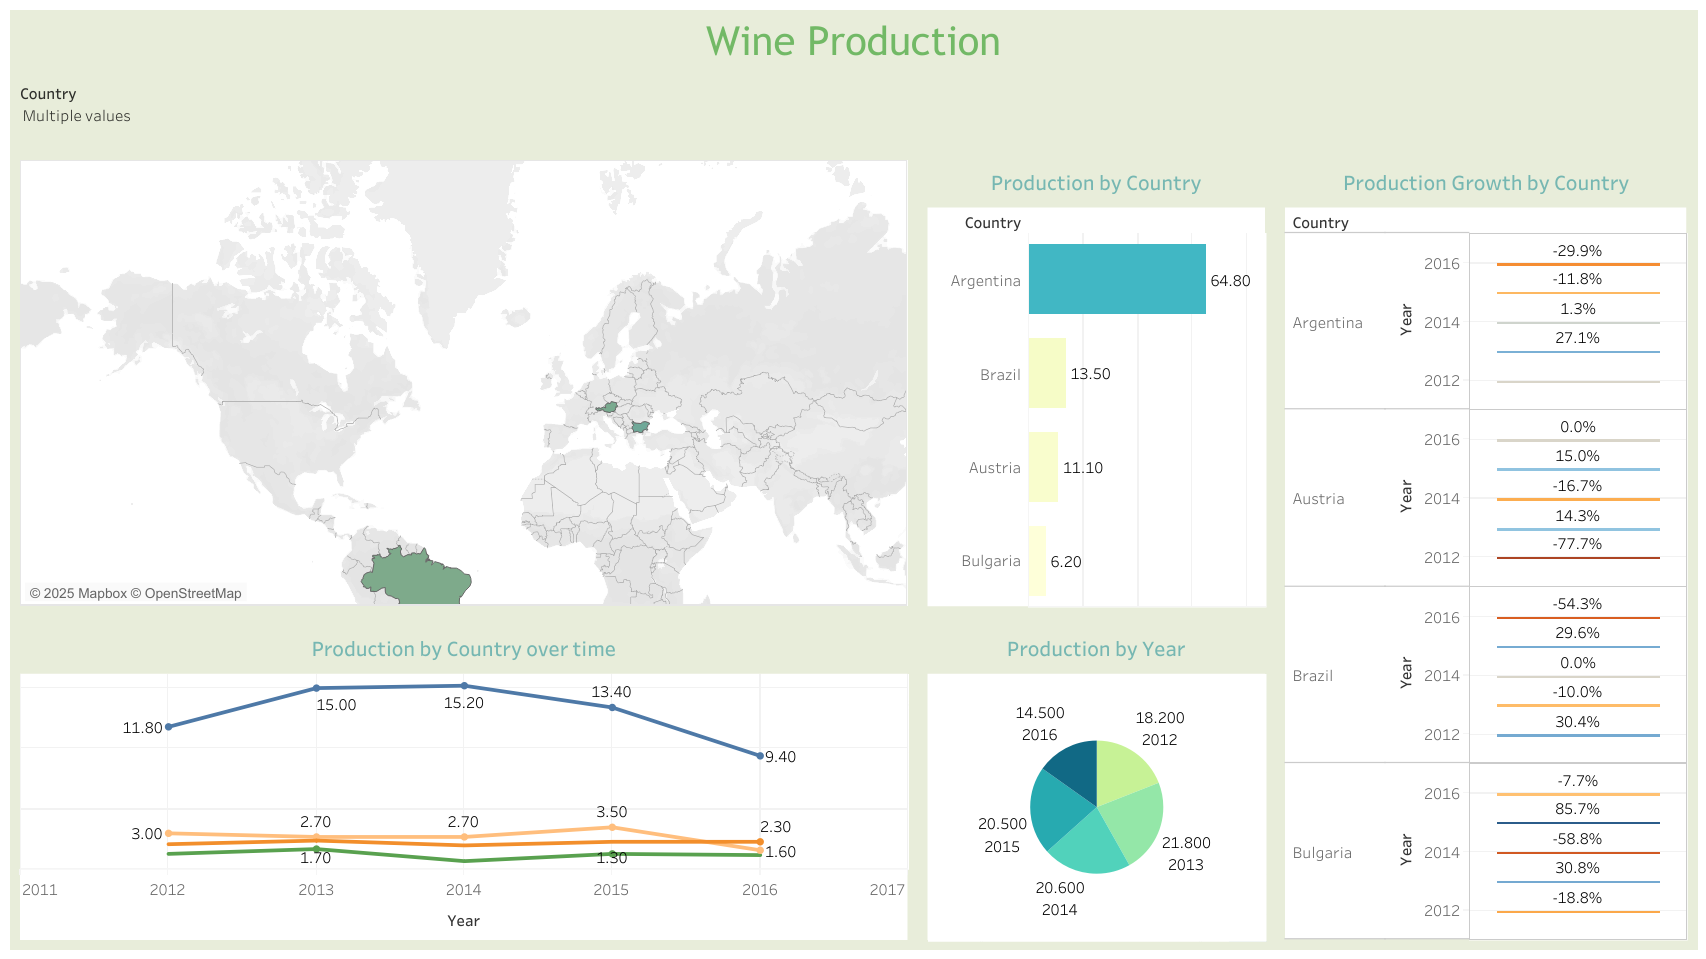

This screenshot's page, from the dashboard's own definition file:
{"tool":"tableau","page":{"name":"Wine Production","canvas":[1366,768],"ordinal":0},"visuals":[{"type":"title","box":[8,8,1350,48]},{"type":"filter","title":"Production Growth by Country","param":"[federated.0ohe1e715er0xs180zzfn08zklyv].[none:Country:nk]","box":[8,56,1350,64]},{"type":"worksheet","title":"Map","mark":"Automatic","box":[8,120,726,373.1]},{"type":"worksheet","title":"Production by Country","mark":"Automatic","rows":["Country"],"cols":["Wine production in mhl"],"box":[734,120,286.4,373.1]},{"type":"worksheet","title":"Production Growth by Country","mark":"Automatic","rows":["Country","Year"],"box":[1020.4,120,337.6,640]},{"type":"worksheet","title":"Production by Country over time","mark":"Automatic","rows":["Wine production in mhl"],"cols":["Year"],"box":[8,493.1,726,266.9]},{"type":"worksheet","title":"Production by Year","mark":"Pie","box":[734,493.1,286.4,266.9]}]}

Visuals, with their boxes in screenshot pixels (x1, y1, x2, y2), scaled from the page's 1366x768 canvas onto the 1706x959 screenshot:
title: (left=10, top=10, right=1696, bottom=70)
"Production Growth by Country" filter: (left=10, top=70, right=1696, bottom=150)
"Map" worksheet: (left=10, top=150, right=917, bottom=616)
"Production by Country" worksheet: (left=917, top=150, right=1274, bottom=616)
"Production Growth by Country" worksheet: (left=1274, top=150, right=1696, bottom=949)
"Production by Country over time" worksheet: (left=10, top=616, right=917, bottom=949)
"Production by Year" worksheet (Pie marks): (left=917, top=616, right=1274, bottom=949)
